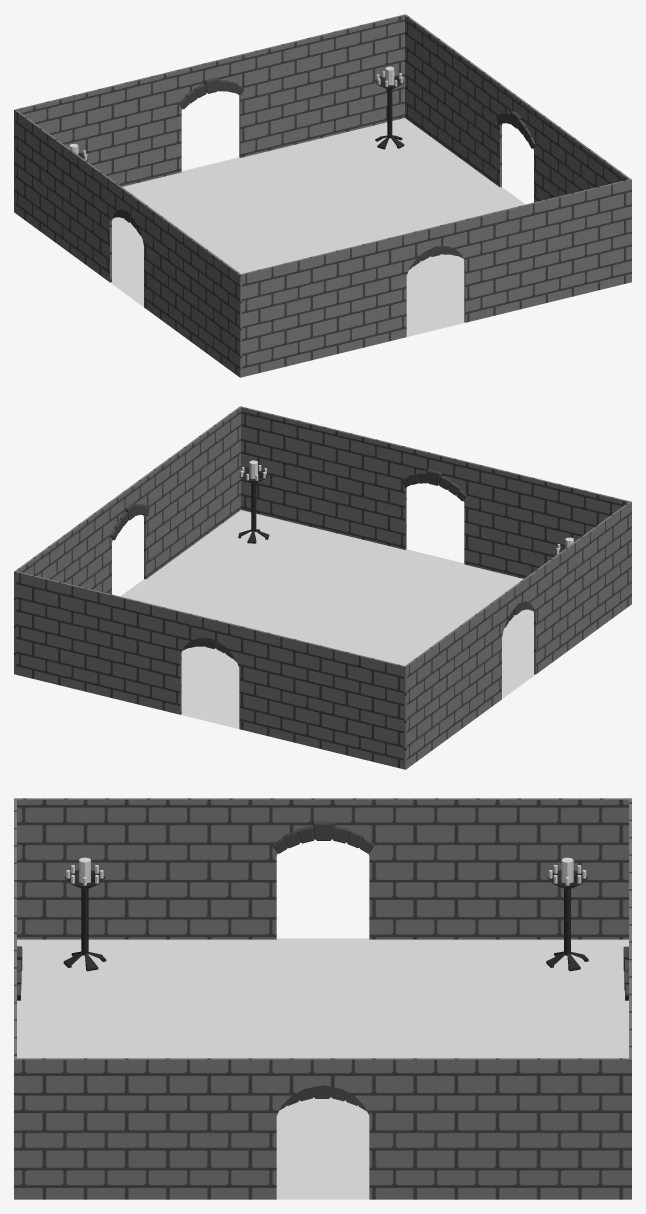
The model's file is Crypts Room 2.fbx.
The picture shows the model from 3 angles, top to bottom: view 1: azimuth 30°, elevation 25°; view 2: azimuth 150°, elevation 25°; view 3: azimuth 270°, elevation 25°; orthographic projection. The views are drawn at different scales.
Parts seen in each view (by area): view 1: Plane.089, Plane.086, Plane.087, Plane.085, Plane.088, Door Topping.005, Cylinder.013, Door Topping.003; view 2: Plane.089, Plane.087, Plane.086, Plane.085, Plane.088, Door Topping.002, Cylinder.009, Door Topping.003; view 3: Plane.089, Plane.088, Plane.085, Door Topping.004, Cylinder.011, Cylinder.015, Door Topping.003, Plane.087, Plane.086, Cylinder.014.
Boxes of the visible parts, x1,y1,x2,y2 form: Plane.089: [110, 118, 525, 336]; Plane.086: [240, 179, 631, 377]; Plane.087: [14, 14, 404, 212]; Plane.085: [14, 109, 241, 377]; Plane.088: [405, 14, 631, 202]; Door Topping.005: [179, 77, 244, 109]; Cylinder.013: [375, 76, 404, 149]; Door Topping.003: [496, 111, 535, 148]; Plane.089: [120, 510, 535, 728]; Plane.087: [14, 571, 406, 769]; Plane.086: [240, 406, 631, 578]; Plane.085: [404, 502, 631, 769]; Plane.088: [14, 406, 240, 674]; Door Topping.002: [401, 469, 466, 500]; Cylinder.009: [238, 469, 269, 543]; Door Topping.003: [110, 502, 149, 540]; Plane.089: [17, 938, 628, 1199]; Plane.088: [14, 1058, 631, 1199]; Plane.085: [14, 798, 631, 939]; Door Topping.004: [273, 821, 374, 853]; Cylinder.011: [63, 870, 106, 971]; Cylinder.015: [546, 870, 588, 971]; Door Topping.003: [279, 1085, 366, 1111]; Plane.087: [629, 799, 631, 1067]; Plane.086: [14, 798, 16, 1059]; Cylinder.014: [548, 857, 586, 885].
Size of the model in its own units: 2000 by 500 by 2000.
